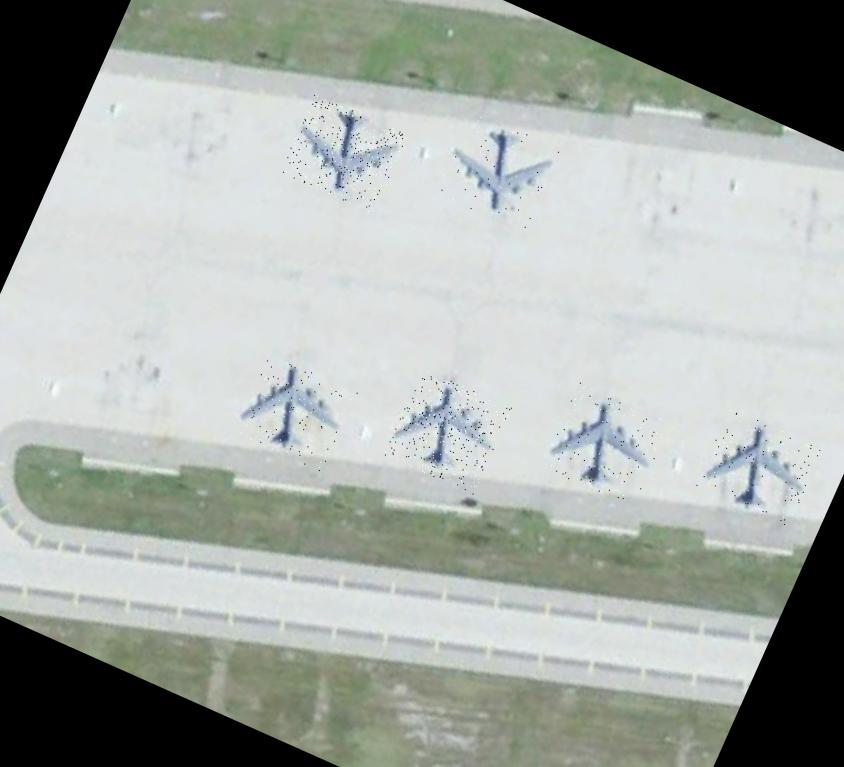A8: (540, 381, 670, 507), (432, 108, 562, 233), (384, 368, 512, 494), (695, 408, 825, 528), (280, 94, 409, 214), (233, 353, 358, 472)
